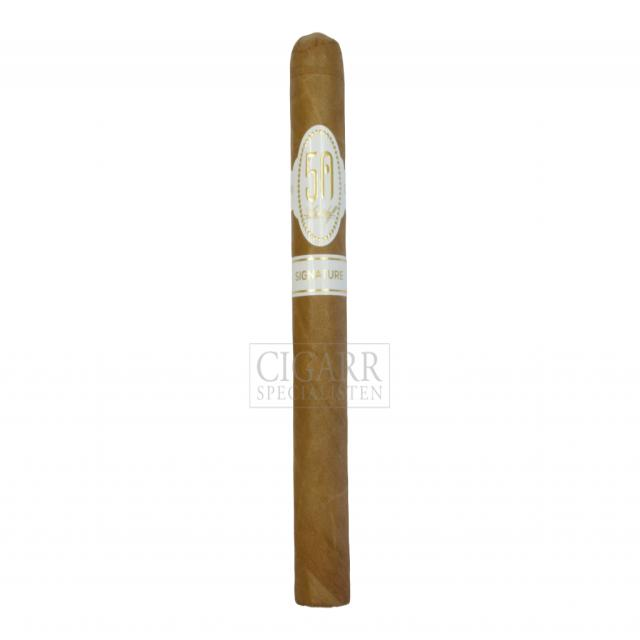Davidoff: (304, 206, 338, 227)
